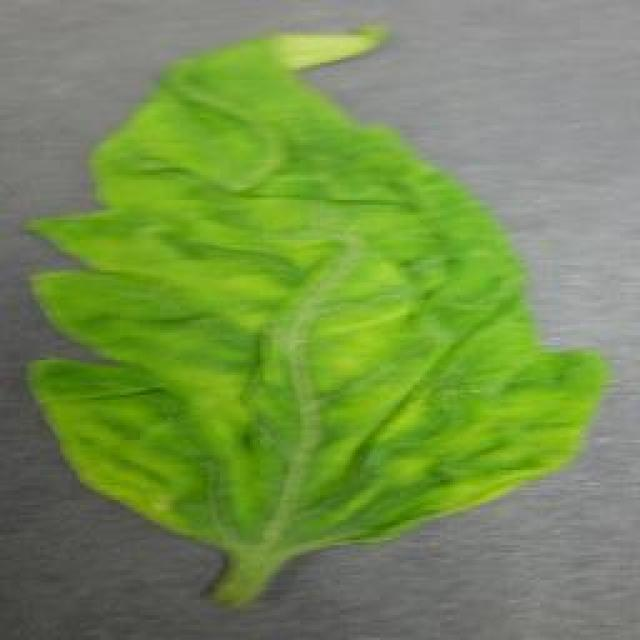Tomato yellow virus leaf: (27, 25, 605, 553)
